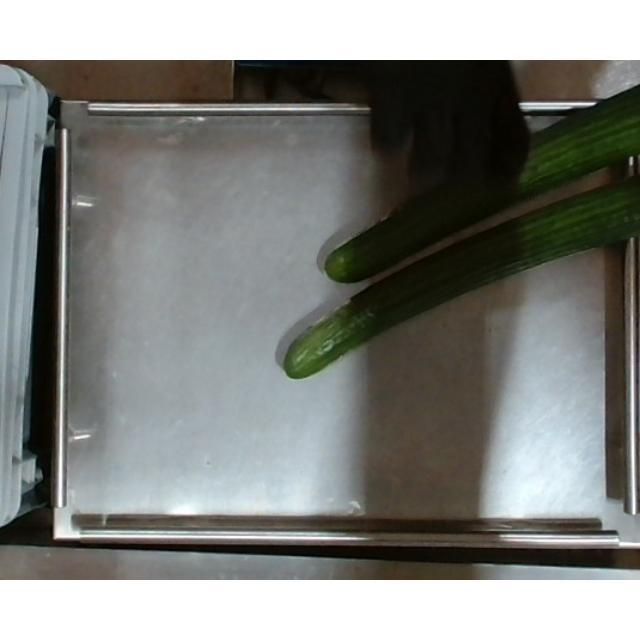cucumber: (284, 177, 640, 377), (324, 102, 640, 284)
